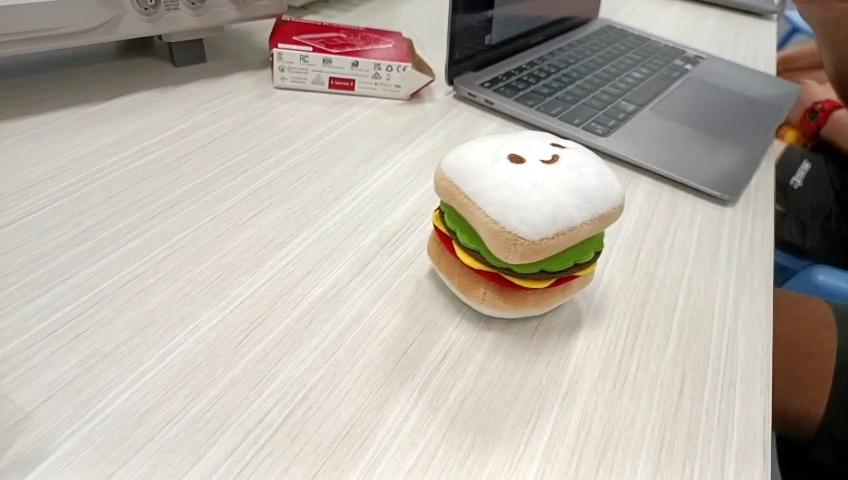objects: (429, 131, 626, 323)
